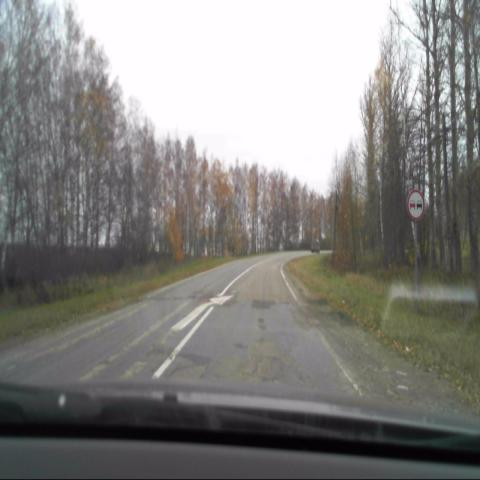3_20: (407, 189, 424, 222)
